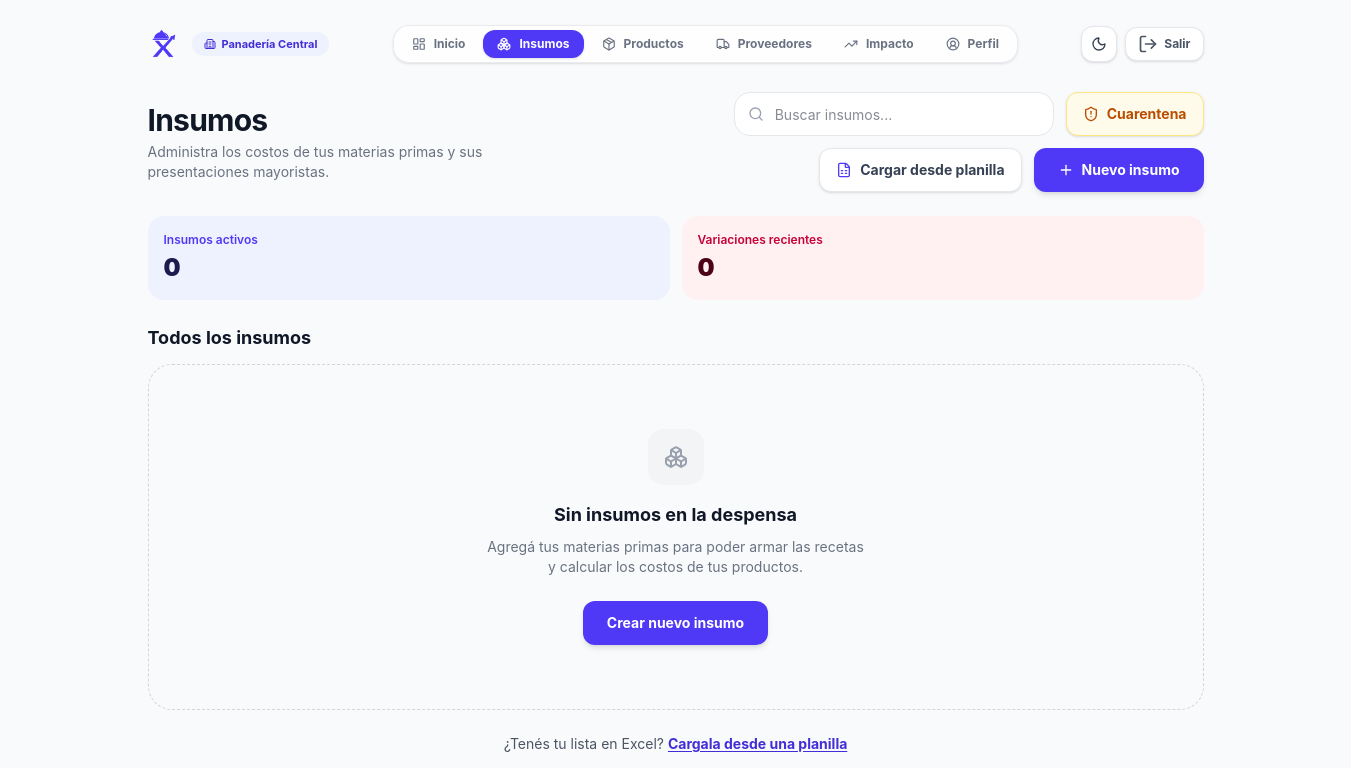
Test: SuppliesPageContent - acceso a la carga desde planilla (#252) › con la despensa vacía, el administrador ve el atajo para cargarla desde una planilla
Click the button "Cargala desde una planilla": (758, 744) [668,722,847,766]
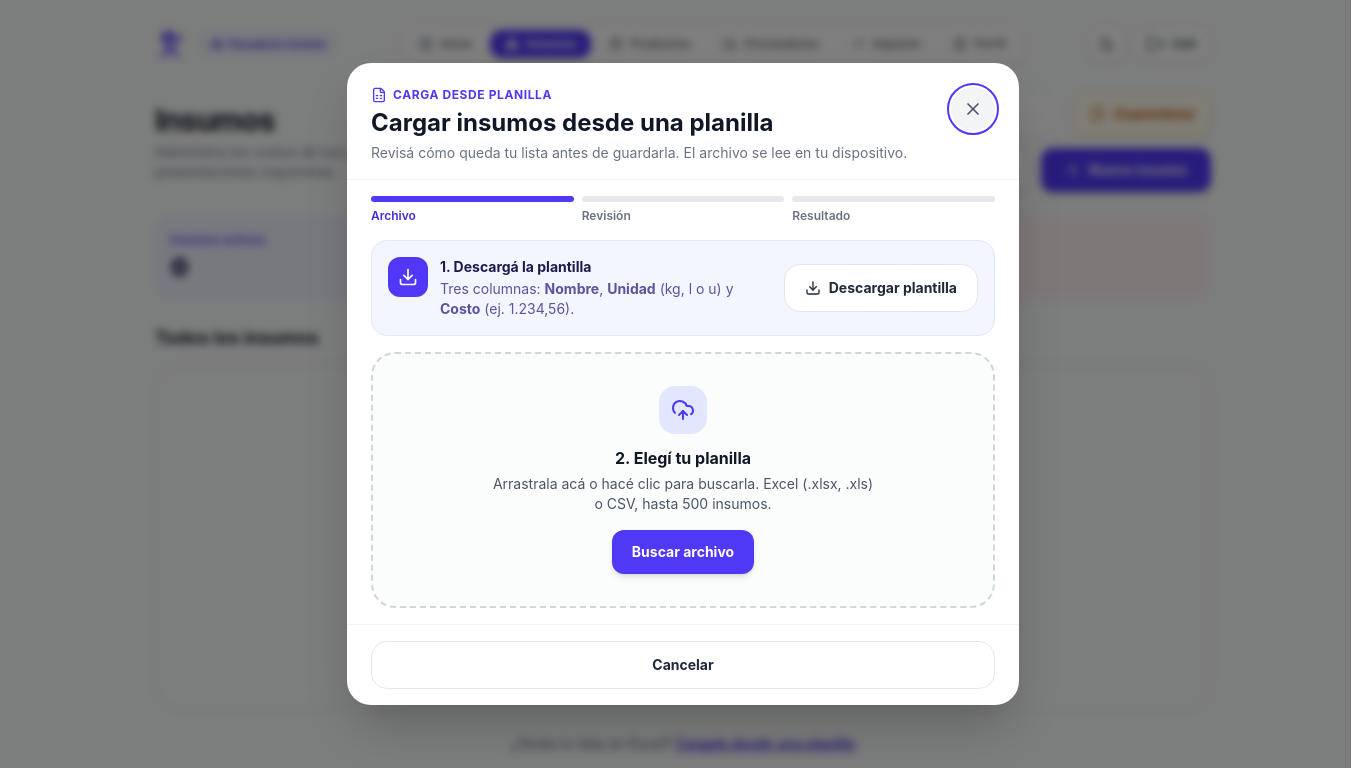
Expected: the dialog "Cargar insumos desde una planilla" is shown, [347,63,1019,705]
